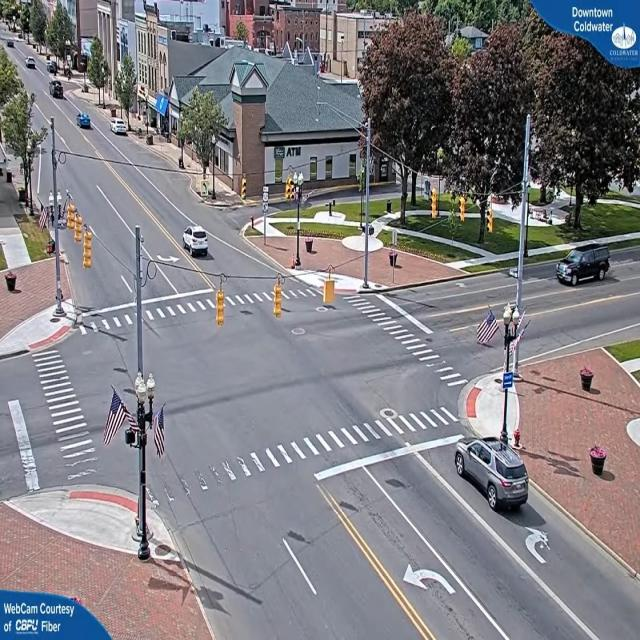car: (457, 437, 532, 512), (556, 243, 612, 286), (183, 226, 211, 256), (112, 120, 130, 138), (51, 82, 66, 99), (78, 115, 93, 131), (26, 58, 36, 69)
